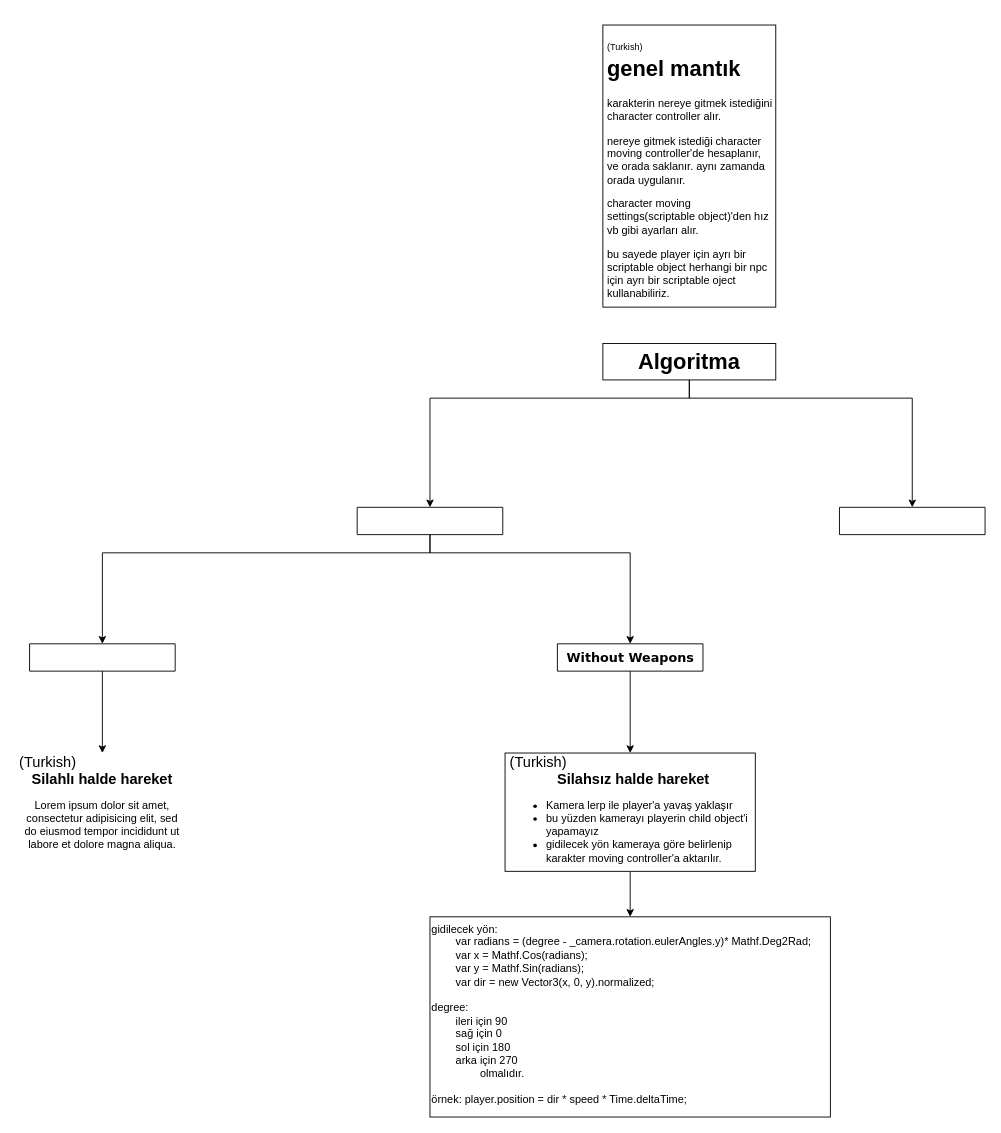
This 1001x1133 diagram has some shape labels left out. Each missing label, with the centre of its shape:
"NPCs" belongs at point 912,520.
"Player" belongs at point 429,520.
"With Weapons" belongs at point 102,657.
